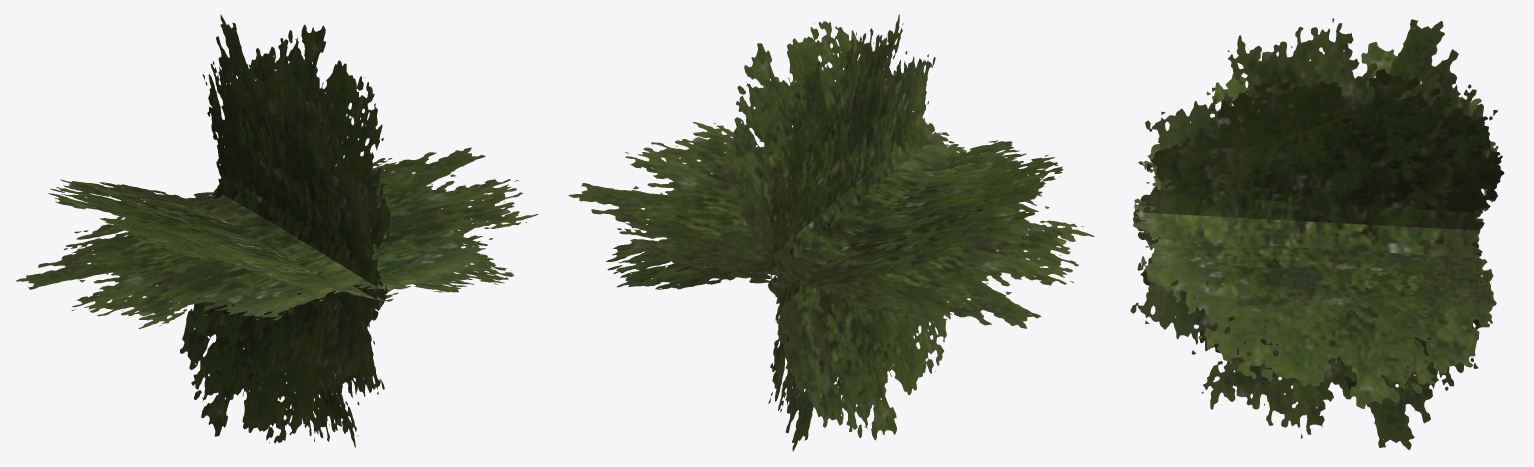
File: plant_small_03.obj
3 renders of one model, left to right at view 1: azimuth 30°, elevation 25°; view 2: azimuth 150°, elevation 25°; view 3: azimuth 270°, elevation 25°, orthographic. The views are drawn at different scales.
Visible parts, largest first — view 1: plant_small_03; view 2: plant_small_03; view 3: plant_small_03.
Part boxes in pixels (x1,y1,x2,y2): plant_small_03: (16,15,538,447); plant_small_03: (568,14,1094,451); plant_small_03: (1130,18,1504,449).
Size of the model in its own units: 3.2 by 2.65 by 2.24.
Materials: 1 (1 with a texture image).
